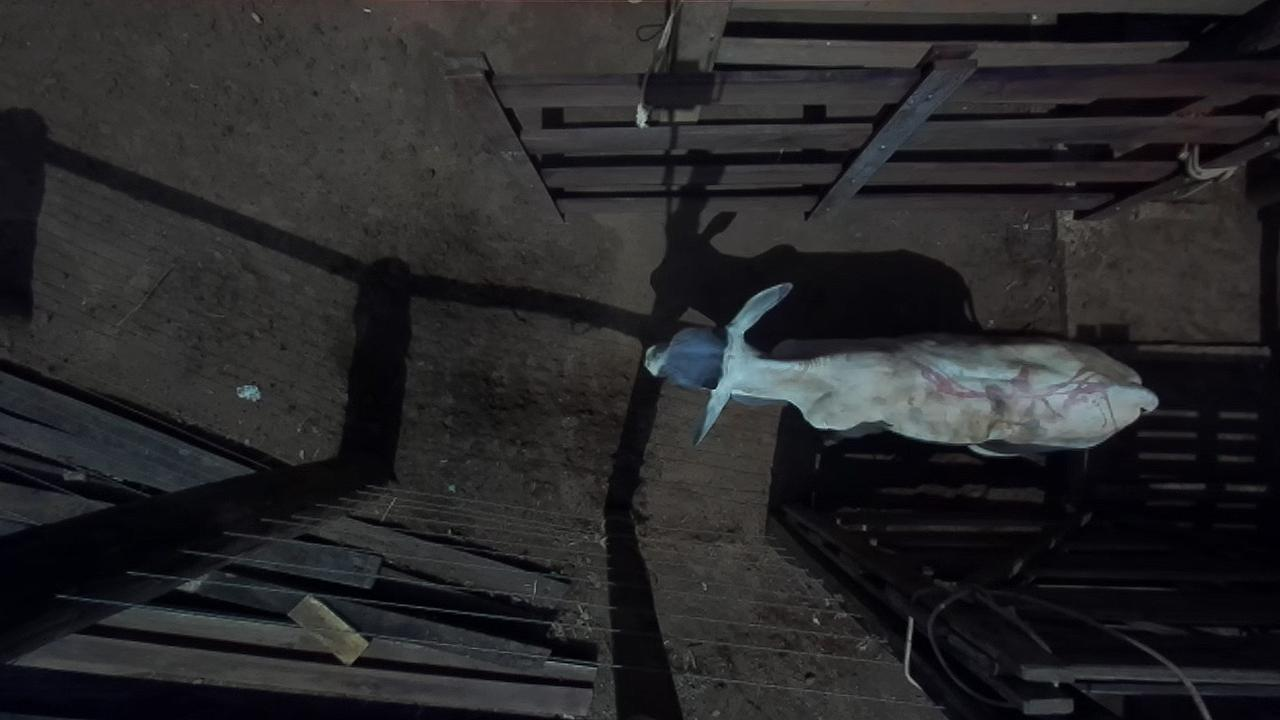cattle: (636, 280, 1159, 454)
